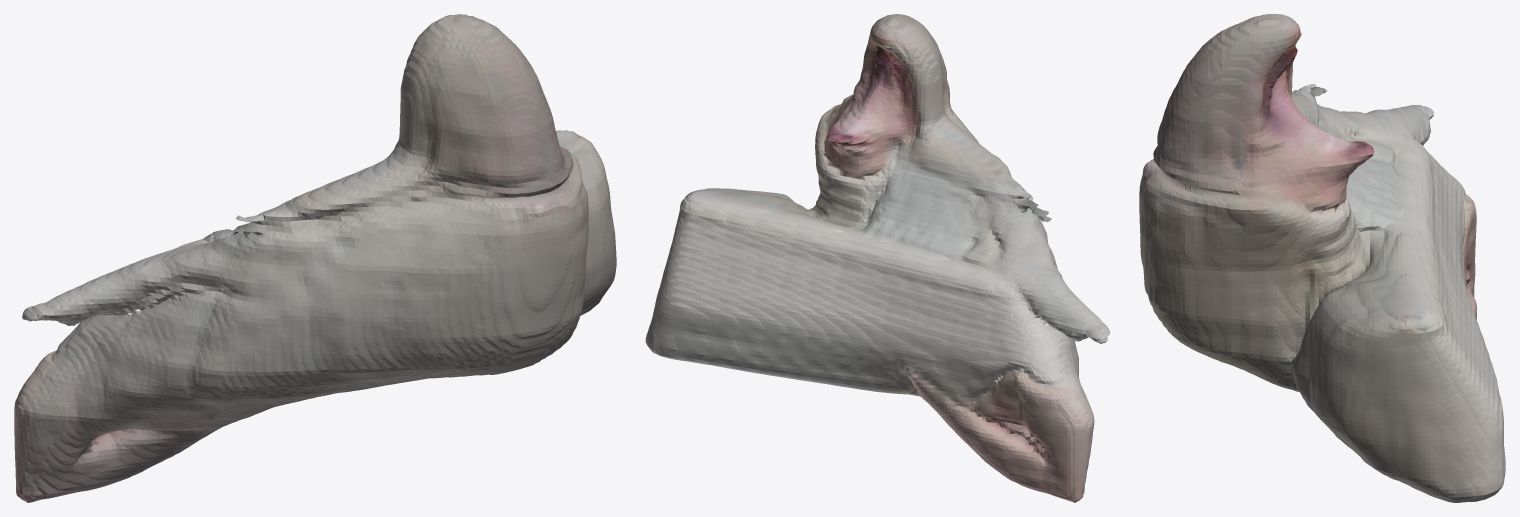
The model's file is tmpz3w718sz.glb.
3 renders of one model, left to right at view 1: azimuth 30°, elevation 25°; view 2: azimuth 150°, elevation 25°; view 3: azimuth 270°, elevation 25°, orthographic. The views are drawn at different scales.
Parts seen in each view (by area): view 1: world; view 2: world; view 3: world.
Part boxes in pixels (<box>): world: <box>14,14,616,502</box>; world: <box>645,14,1110,502</box>; world: <box>1139,14,1505,502</box>.
Size of the model in its own units: 0.9529 by 0.7461 by 0.54.
